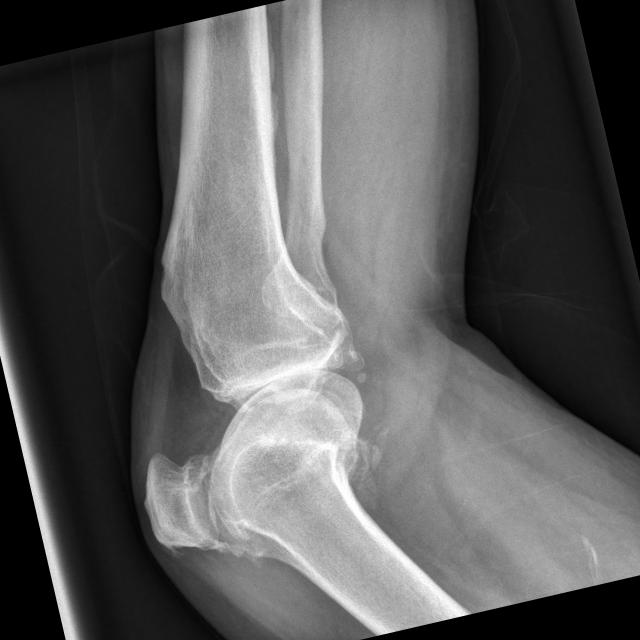Knee: (106, 289, 408, 568)
